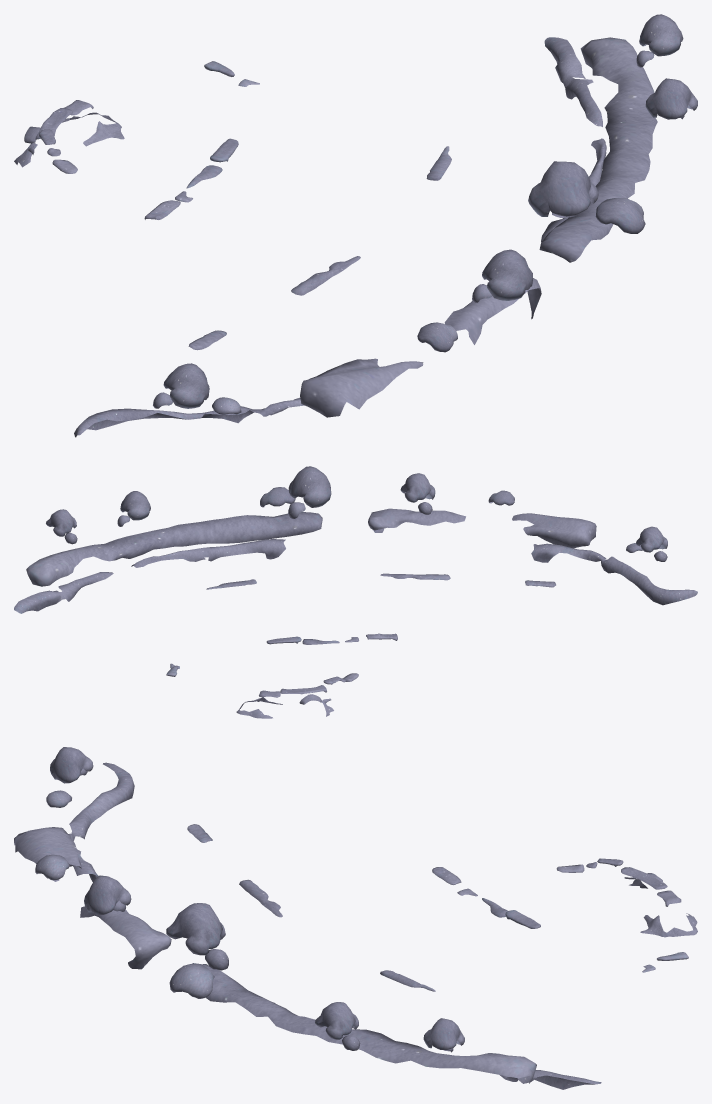
File: pref_sm_beach_winter_snow08_lv2.fbx
The picture shows the model from 3 angles, top to bottom: view 1: azimuth 30°, elevation 25°; view 2: azimuth 150°, elevation 25°; view 3: azimuth 270°, elevation 25°; orthographic projection. The views are drawn at different scales.
Parts seen in each view (by area): view 1: pref_sm_beach_winter_snow08_lv2; view 2: pref_sm_beach_winter_snow08_lv2; view 3: pref_sm_beach_winter_snow08_lv2.
Part boxes in pixels (x1,y1,x2,y2): pref_sm_beach_winter_snow08_lv2: (14, 14, 697, 437); pref_sm_beach_winter_snow08_lv2: (14, 466, 697, 718); pref_sm_beach_winter_snow08_lv2: (14, 747, 697, 1089).
Bounding box in the file's own units: 49.59 × 7.18 × 42.75.
